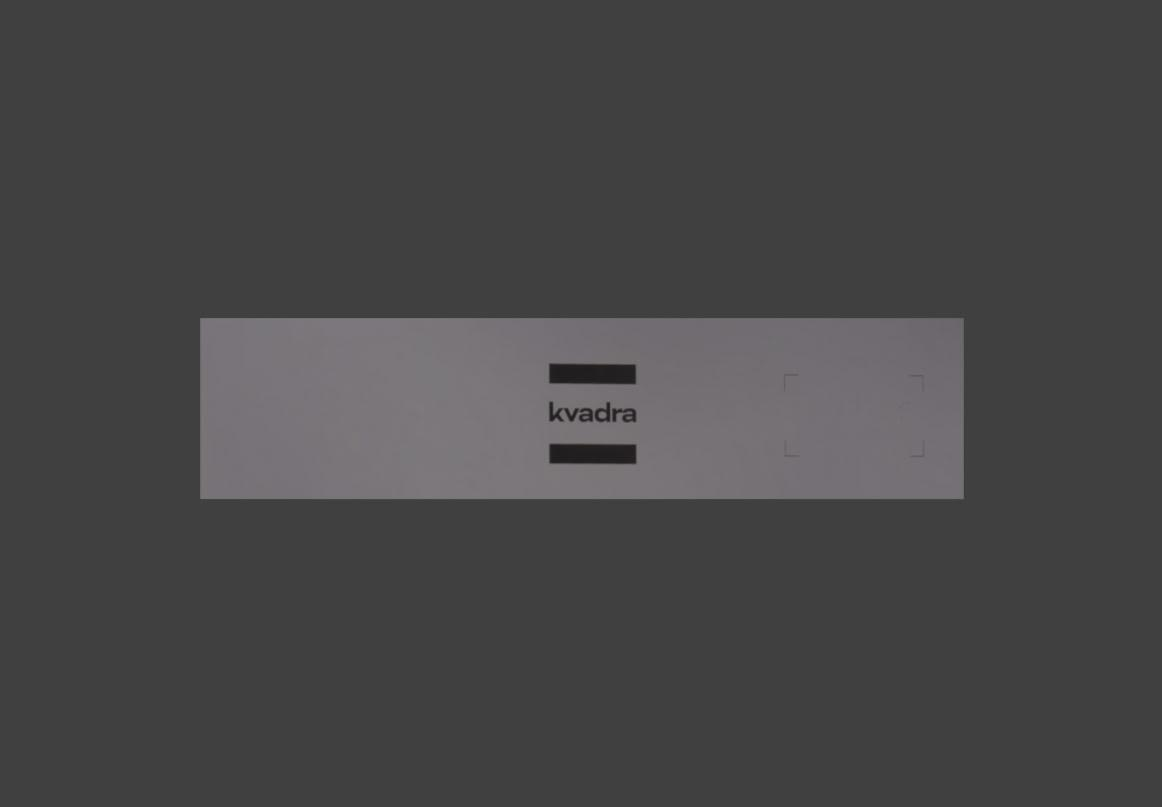laptop_left: (198, 315, 973, 509)
